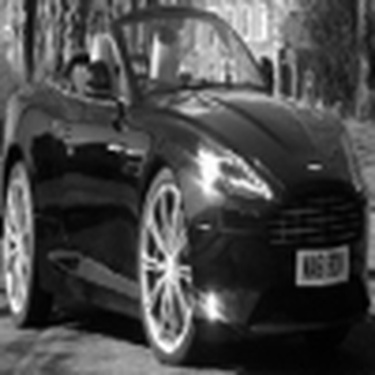car: (3, 1, 369, 371)
